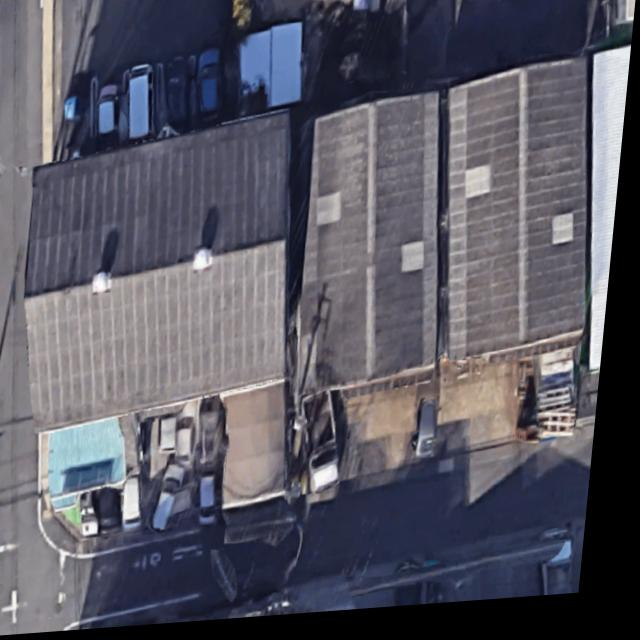Batiment: (31, 118, 292, 432), (452, 66, 592, 366), (306, 100, 444, 396), (58, 425, 134, 511)
